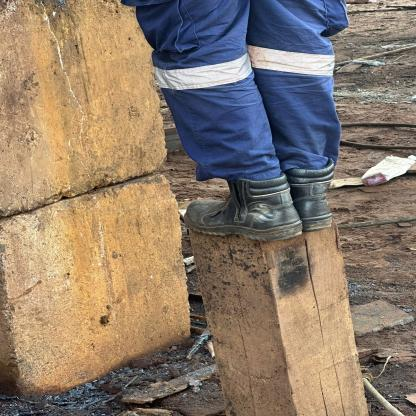bota: (184, 175, 302, 244), (289, 172, 336, 237)
